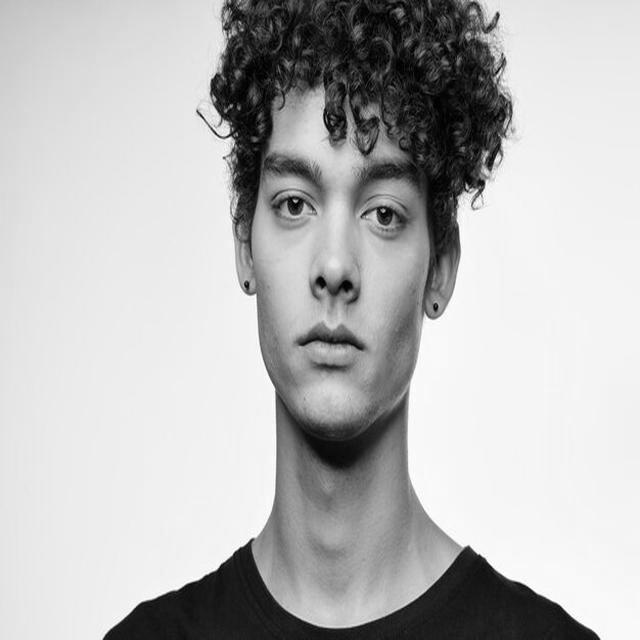Neutral: (251, 89, 431, 436)
